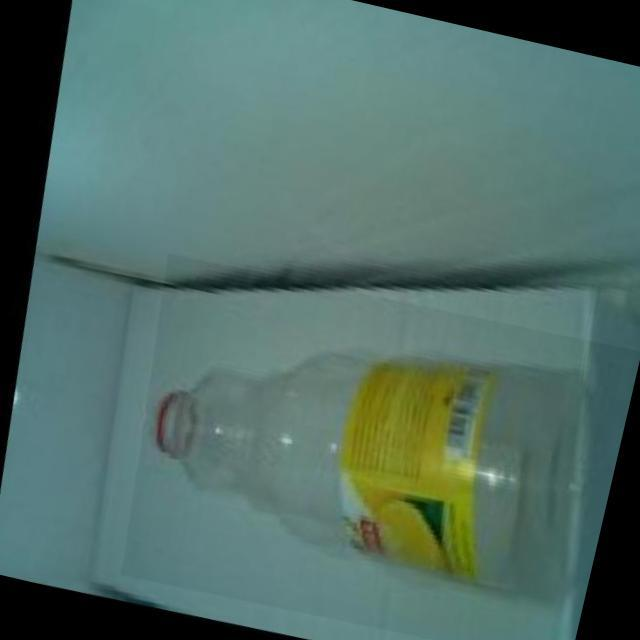good: (89, 243, 640, 640)
